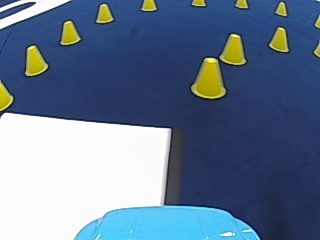cone: (190, 56, 226, 98), (219, 33, 246, 65), (23, 44, 48, 75), (268, 25, 289, 51), (59, 20, 80, 45), (0, 79, 13, 110), (95, 3, 113, 23), (274, 1, 287, 16), (140, 0, 156, 11), (235, 0, 247, 8), (192, 0, 204, 6)
